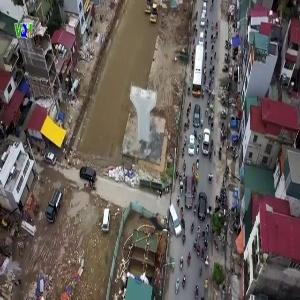drone: (125, 197, 187, 259)
